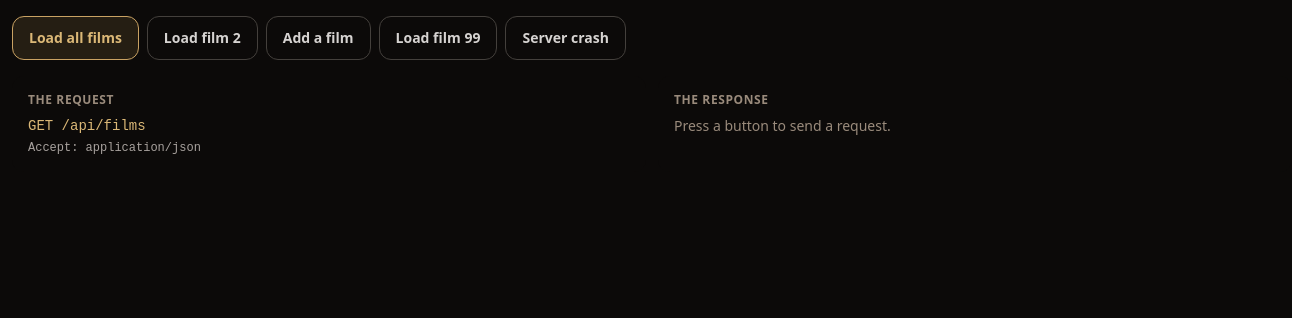
Test: HttpLabDemoComponent › turns a 404 into error(HttpErrorResponse) with a readable message
This screenshot has width=1292, height=318.
Click the button "Load film 99". click: click(438, 38)
box: [379, 16, 498, 60]
Wait 700 ms
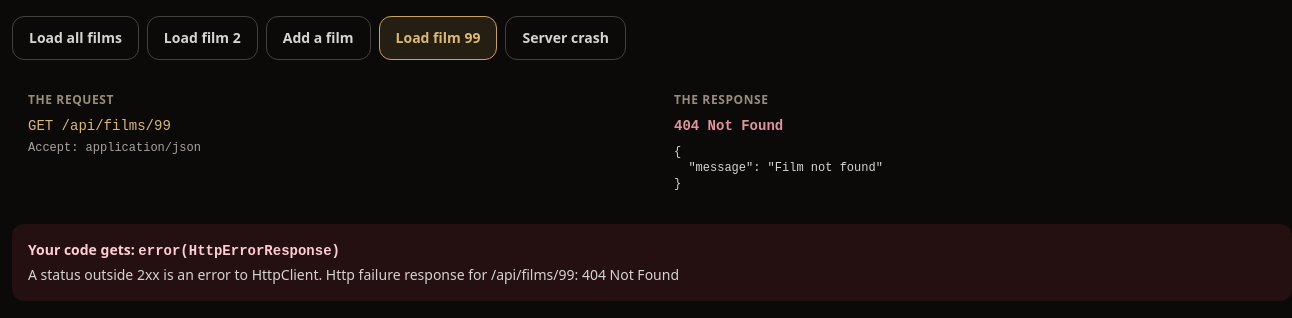
Expected: the text "404 Not Found" is shown, [674, 118, 783, 134]
Expected: the text "error(HttpErrorResponse)" is shown, [138, 243, 340, 259]
Expected: the text "404" is shown, [674, 118, 783, 134]
